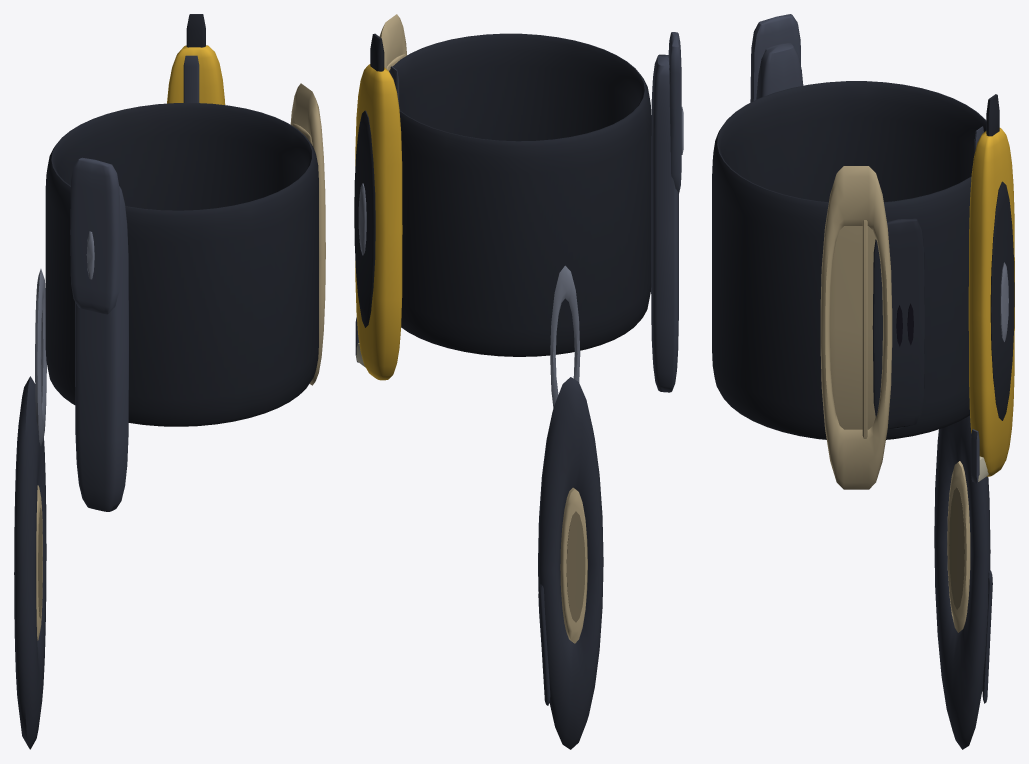
Rendered from SM_Crew_Belt.fbx.
The picture shows the model from 3 angles, left to right: view 1: azimuth 30°, elevation 25°; view 2: azimuth 150°, elevation 25°; view 3: azimuth 270°, elevation 25°; orthographic projection. The views are drawn at different scales.
Parts seen in each view (by area): view 1: SM_Crew_Belt; view 2: SM_Crew_Belt; view 3: SM_Crew_Belt.
Boxes of the visible parts, x1=… form: SM_Crew_Belt: x1=14, y1=14, x2=325, y2=749; SM_Crew_Belt: x1=354, y1=14, x2=683, y2=749; SM_Crew_Belt: x1=712, y1=14, x2=1014, y2=749.
Size of the model in its own units: 109 by 265 by 97.22.
